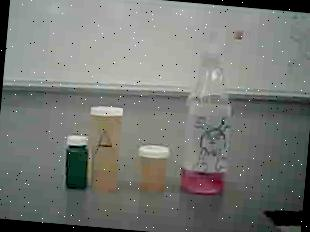Bottle A: (79, 99, 135, 201)
Bottle B: (129, 136, 176, 197)
Bottle C: (58, 128, 98, 192)
hazard: (172, 20, 251, 206)
